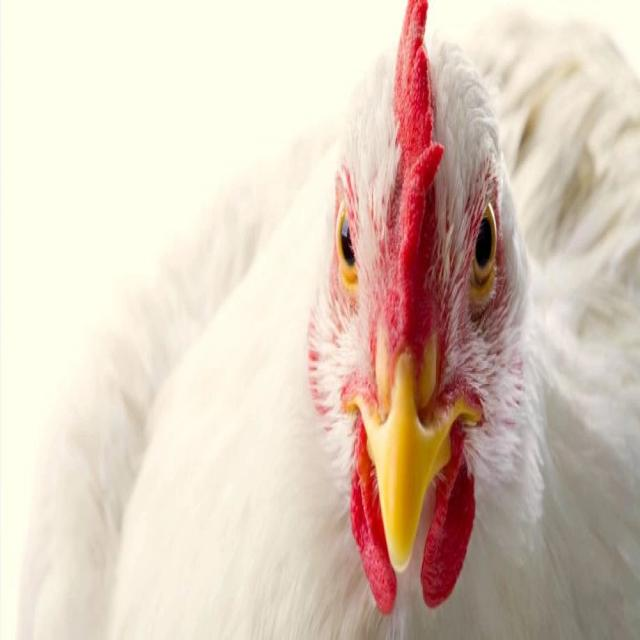Healthy: (117, 7, 572, 640)
